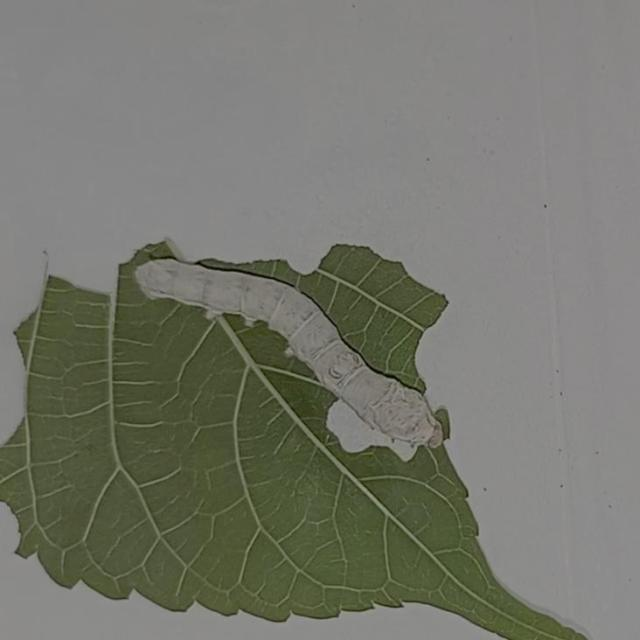Healthy: (127, 235, 479, 460)
